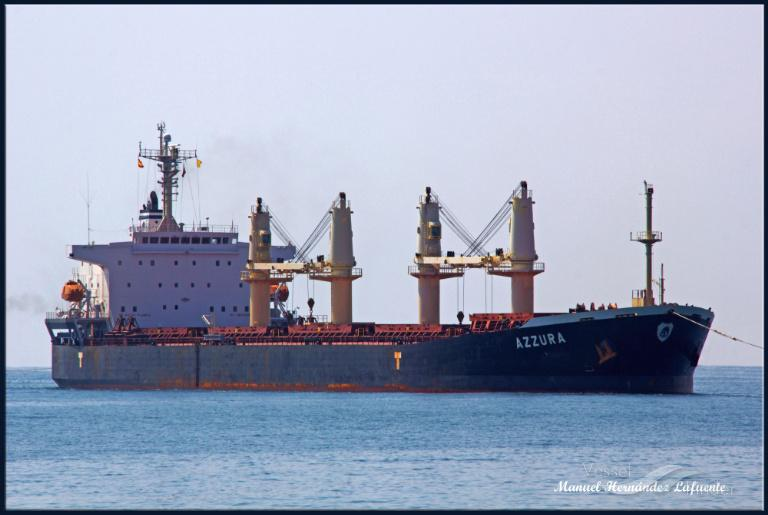OCR: (510, 328, 574, 354)
